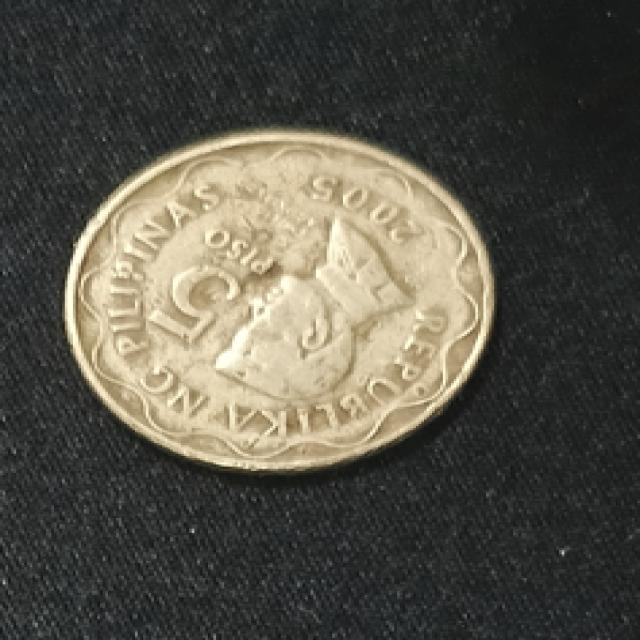5_peso: (68, 131, 491, 469)
